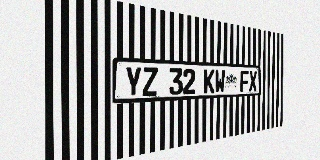2: (183, 68, 195, 94)
3: (169, 68, 183, 95)
F: (240, 70, 249, 92)
K: (204, 69, 215, 93)
W: (215, 69, 225, 93)
X: (249, 71, 257, 91)
Y: (125, 66, 142, 97)
Z: (142, 67, 158, 96)
